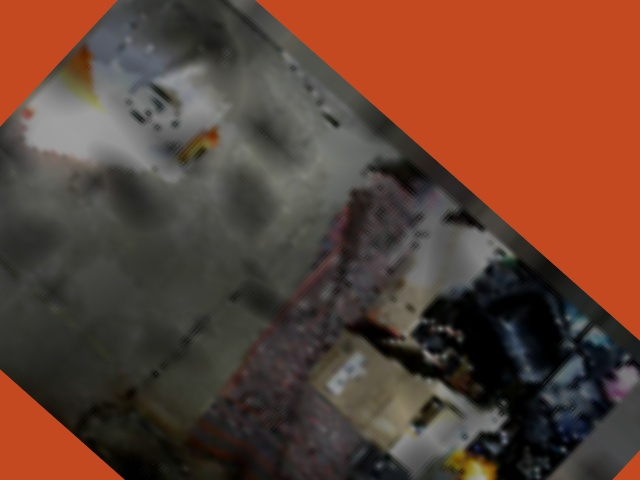one: (119, 76, 184, 137)
